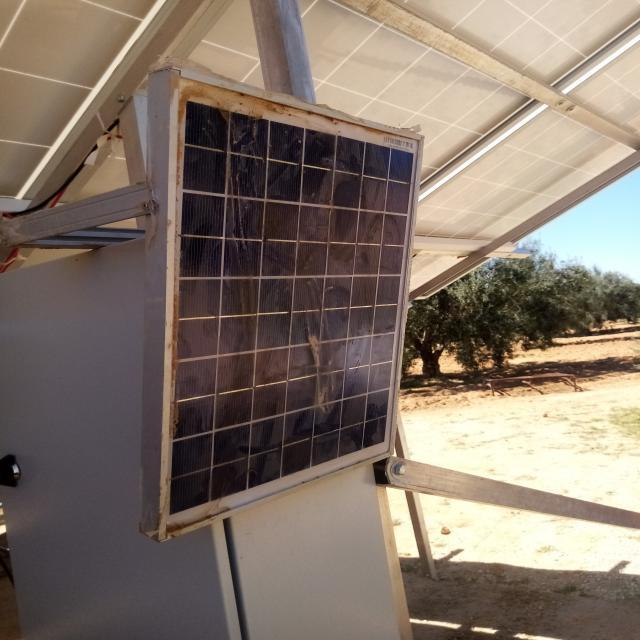faulty: (164, 71, 424, 535)
